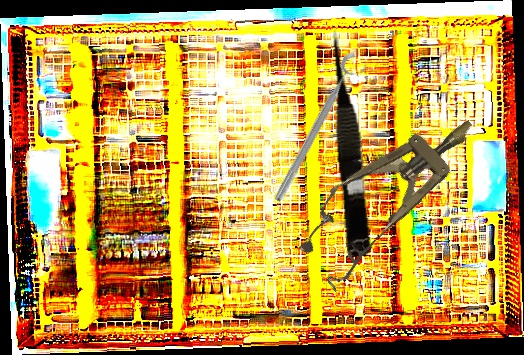Fixation Ring: (269, 49, 372, 209)
Micro Scissor: (323, 26, 378, 258)
Speculum: (282, 91, 498, 294)
